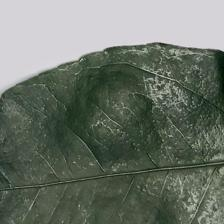healthy: (3, 3, 224, 224)
